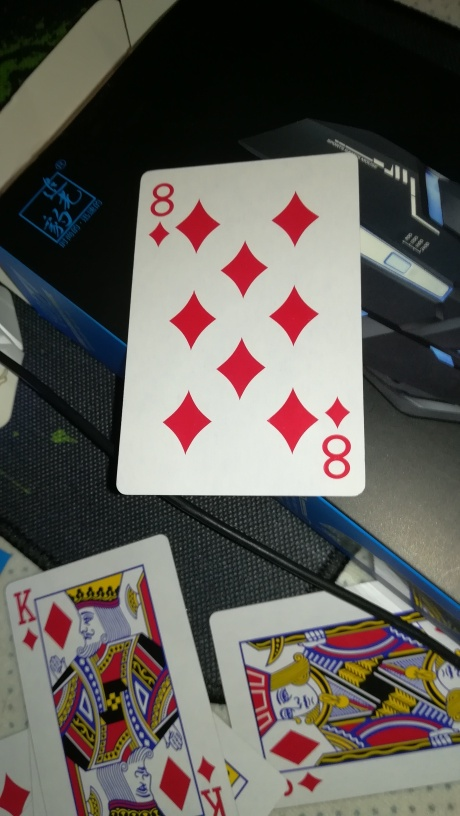fk 8: (115, 149, 366, 498)
